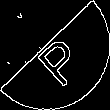P_NW: (25, 24, 85, 86)
